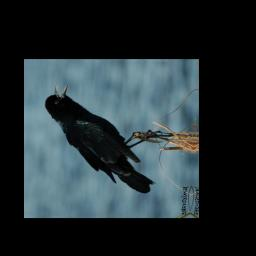Crow: (41, 83, 165, 194)
